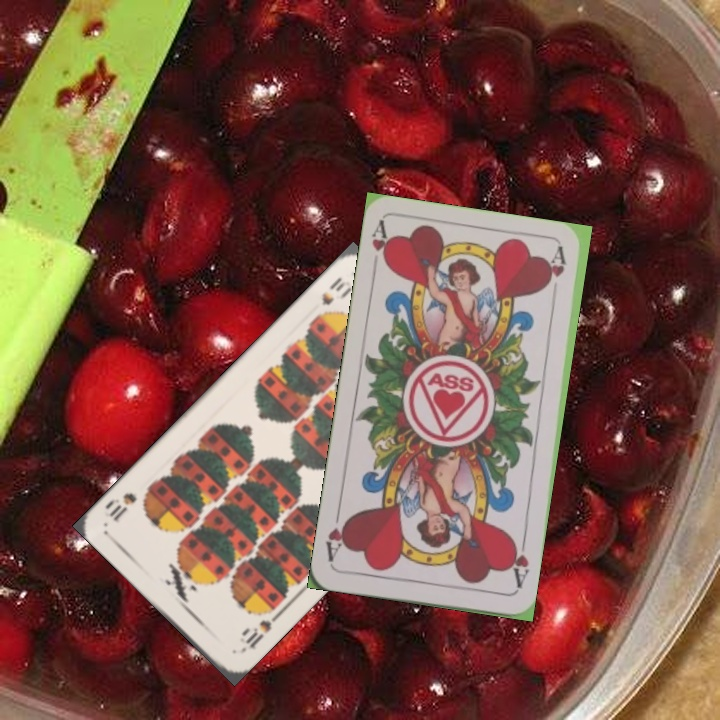HA: (505, 534, 532, 593), (367, 219, 394, 278)
S10: (310, 272, 354, 321), (237, 609, 282, 652)
